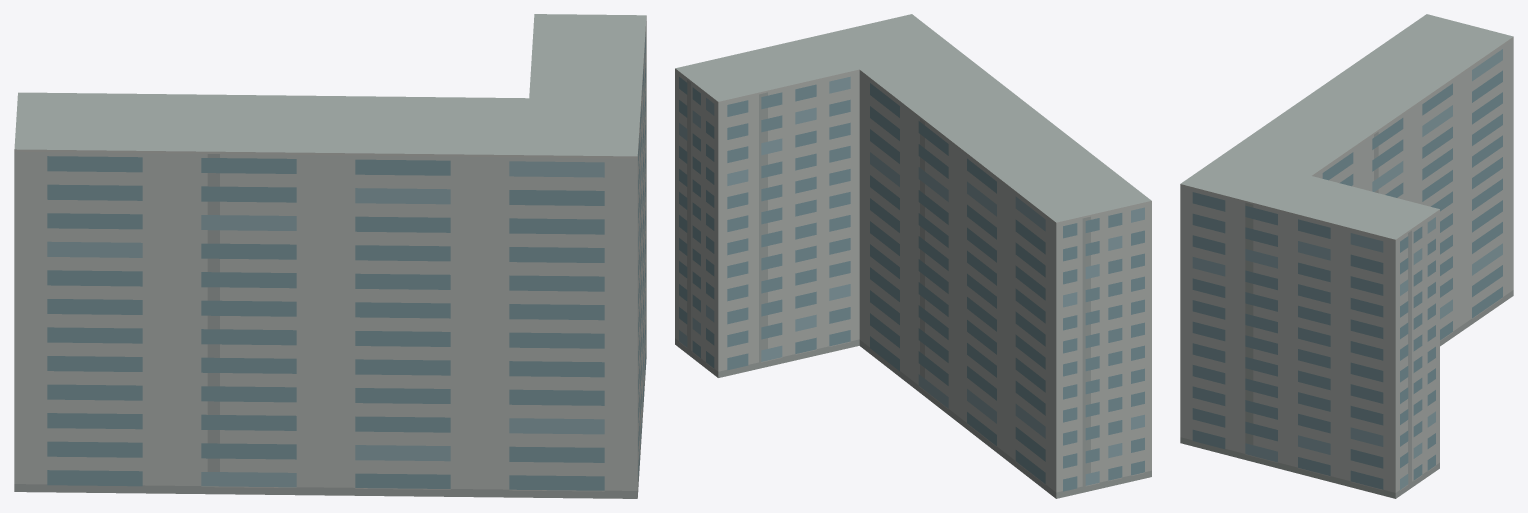
The model's file is residential-c6ad8cca-705b-49d8-a972-e4f20f968d48.glb.
3 renders of one model, left to right at view 1: azimuth 30°, elevation 25°; view 2: azimuth 150°, elevation 25°; view 3: azimuth 270°, elevation 25°, orthographic. The views are drawn at different scales.
Parts seen in each view (by area): view 1: residential-c6ad8cca-705b-49d8-a972-e4f20f968d48.tmp; view 2: residential-c6ad8cca-705b-49d8-a972-e4f20f968d48.tmp; view 3: residential-c6ad8cca-705b-49d8-a972-e4f20f968d48.tmp.
Part boxes in pixels (bbox=[...]): residential-c6ad8cca-705b-49d8-a972-e4f20f968d48.tmp: bbox=[14, 14, 646, 498]; residential-c6ad8cca-705b-49d8-a972-e4f20f968d48.tmp: bbox=[675, 14, 1151, 498]; residential-c6ad8cca-705b-49d8-a972-e4f20f968d48.tmp: bbox=[1180, 14, 1513, 498].
Size of the model in its own units: 68.39 by 36.6 by 42.7.
